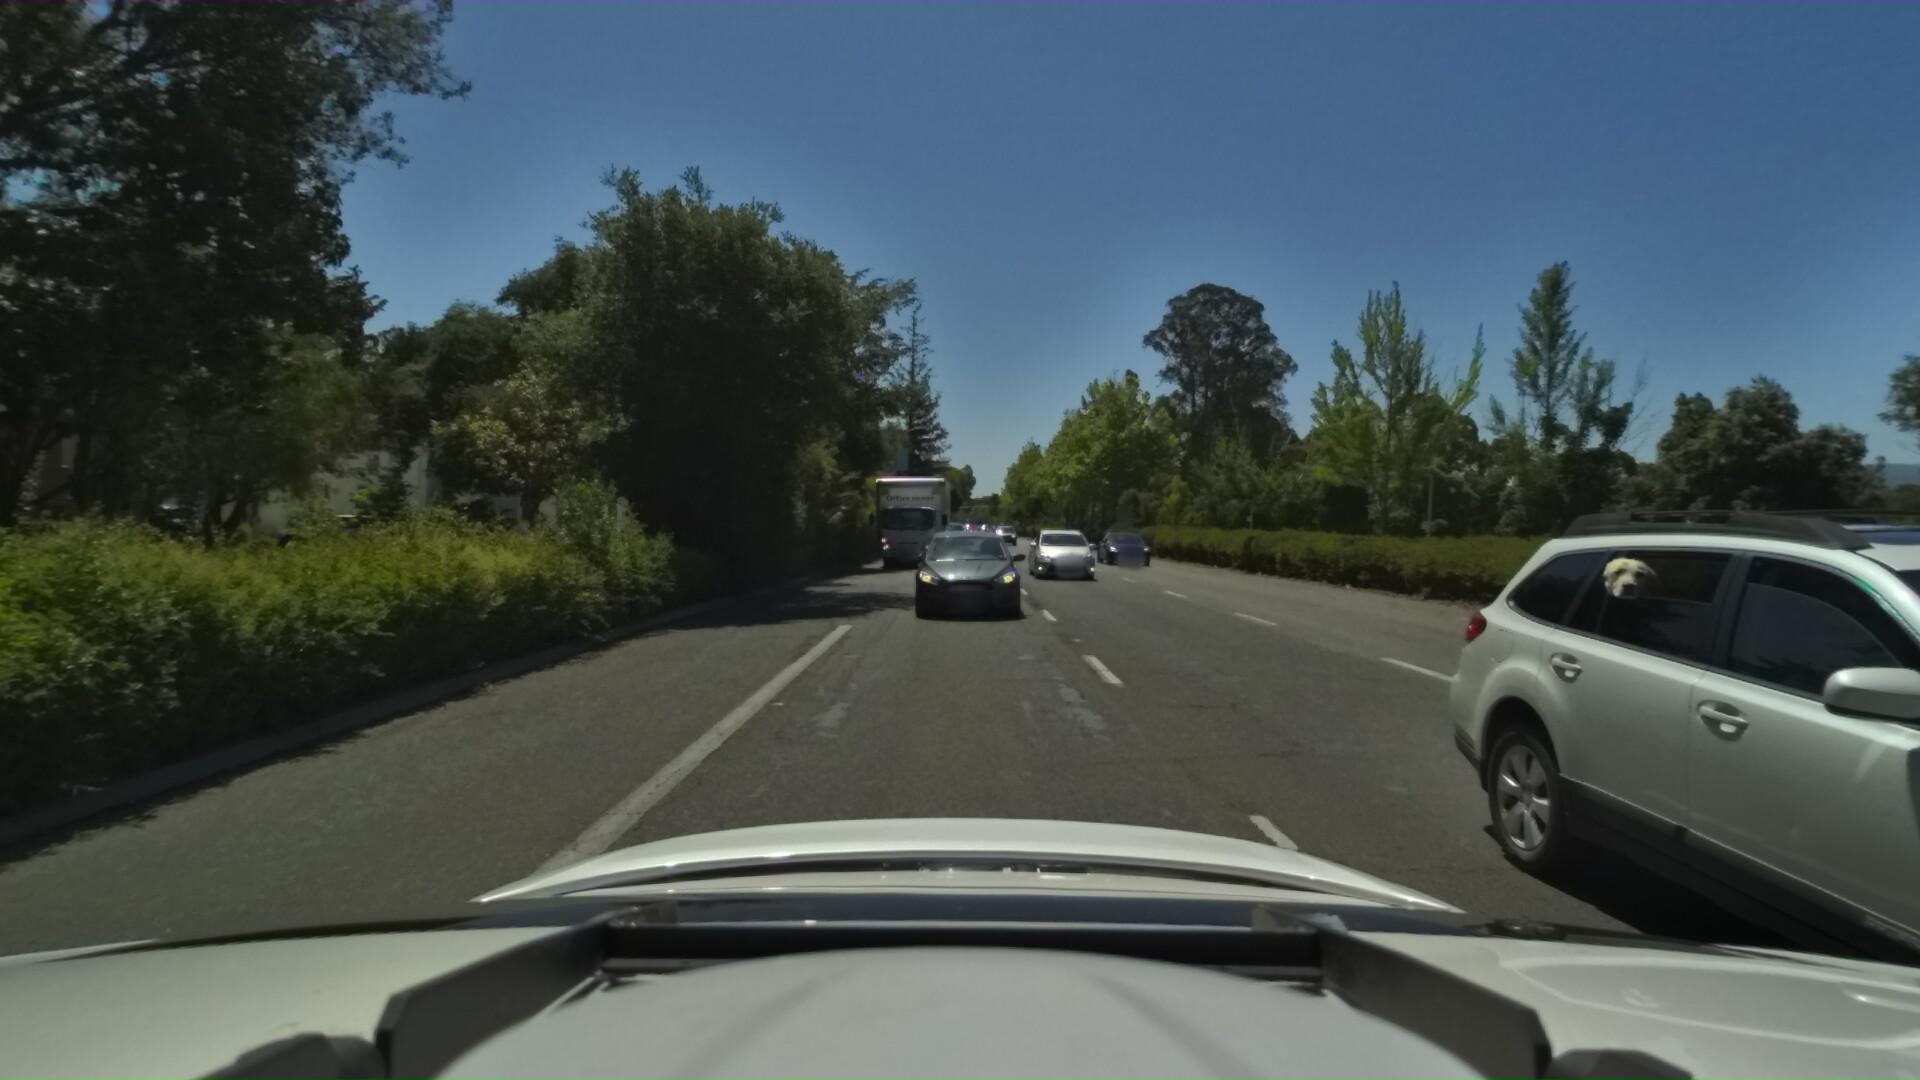car: (1329, 496, 1920, 1080), (0, 512, 173, 603), (909, 530, 1025, 630), (1017, 520, 1092, 579), (1089, 526, 1147, 563), (988, 516, 1017, 542)
other_vehicle: (0, 481, 26, 593)
truck: (857, 469, 952, 574)
